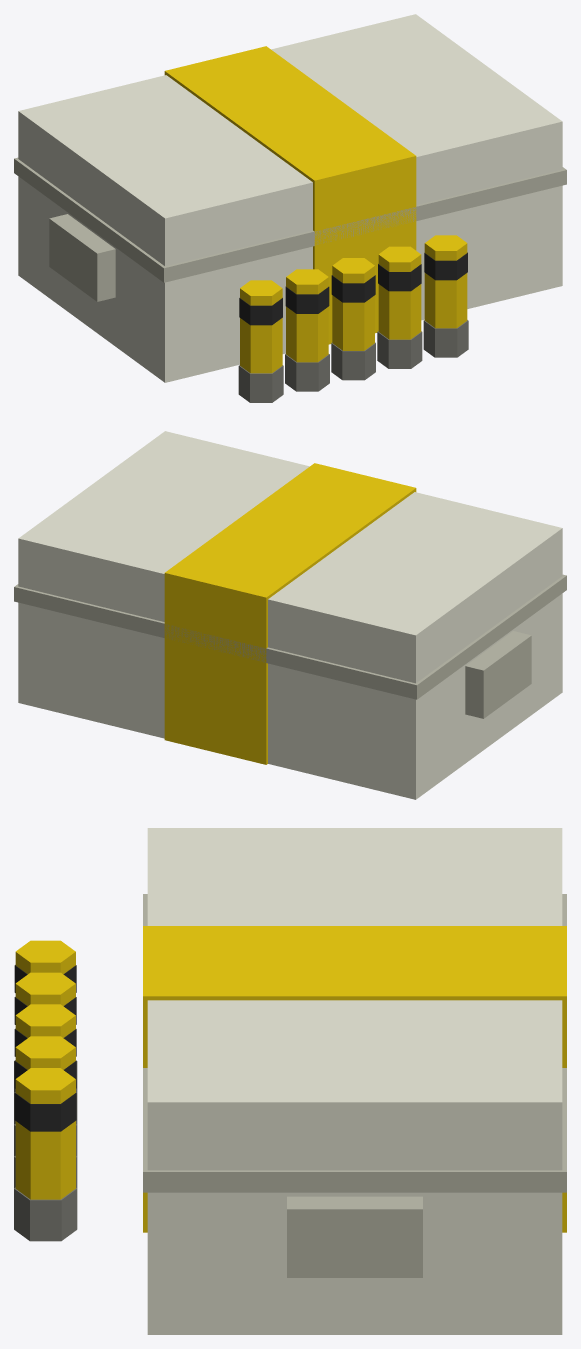
File: ce_ammo_chshotgun_reg_c.obj
3 views of the same model, one above another, from view 1: azimuth 30°, elevation 25°; view 2: azimuth 150°, elevation 25°; view 3: azimuth 270°, elevation 25° (orthographic). The views are drawn at different scales.
Visible parts, largest first — view 1: ce_ammo_chshotgun_reg_c_0, ce_ammo_chshotgun_reg_c_1, ce_ammo_chshotgun_reg_c_2, ce_ammo_chshotgun_reg_c_3, ce_ammo_chshotgun_reg_c_15, ce_ammo_chshotgun_reg_c_18, ce_ammo_chshotgun_reg_c_6, ce_ammo_chshotgun_reg_c_9, ce_ammo_chshotgun_reg_c_12, ce_ammo_chshotgun_reg_c_17, ce_ammo_chshotgun_reg_c_5, ce_ammo_chshotgun_reg_c_14 (+7 smaller); view 2: ce_ammo_chshotgun_reg_c_0, ce_ammo_chshotgun_reg_c_1, ce_ammo_chshotgun_reg_c_2, ce_ammo_chshotgun_reg_c_3; view 3: ce_ammo_chshotgun_reg_c_0, ce_ammo_chshotgun_reg_c_1, ce_ammo_chshotgun_reg_c_4, ce_ammo_chshotgun_reg_c_2, ce_ammo_chshotgun_reg_c_18, ce_ammo_chshotgun_reg_c_17, ce_ammo_chshotgun_reg_c_19, ce_ammo_chshotgun_reg_c_6, ce_ammo_chshotgun_reg_c_9, ce_ammo_chshotgun_reg_c_12, ce_ammo_chshotgun_reg_c_15.
Boxes of the visible parts, left/top/right/bottom form: ce_ammo_chshotgun_reg_c_0: left=18, top=14, right=562, bottom=382; ce_ammo_chshotgun_reg_c_1: left=164, top=46, right=416, bottom=344; ce_ammo_chshotgun_reg_c_2: left=14, top=157, right=566, bottom=282; ce_ammo_chshotgun_reg_c_3: left=49, top=214, right=115, bottom=301; ce_ammo_chshotgun_reg_c_15: left=378, top=246, right=421, bottom=339; ce_ammo_chshotgun_reg_c_18: left=424, top=235, right=467, bottom=328; ce_ammo_chshotgun_reg_c_6: left=240, top=280, right=282, bottom=373; ce_ammo_chshotgun_reg_c_9: left=286, top=269, right=328, bottom=362; ce_ammo_chshotgun_reg_c_12: left=332, top=258, right=374, bottom=350; ce_ammo_chshotgun_reg_c_17: left=423, top=320, right=468, bottom=357; ce_ammo_chshotgun_reg_c_5: left=238, top=365, right=283, bottom=402; ce_ammo_chshotgun_reg_c_14: left=377, top=331, right=422, bottom=368; ce_ammo_chshotgun_reg_c_0: left=18, top=431, right=562, bottom=799; ce_ammo_chshotgun_reg_c_1: left=164, top=463, right=416, bottom=764; ce_ammo_chshotgun_reg_c_2: left=14, top=574, right=566, bottom=699; ce_ammo_chshotgun_reg_c_3: left=465, top=631, right=531, bottom=718; ce_ammo_chshotgun_reg_c_0: left=147, top=828, right=562, bottom=1334; ce_ammo_chshotgun_reg_c_1: left=143, top=926, right=566, bottom=1232; ce_ammo_chshotgun_reg_c_4: left=287, top=1196, right=422, bottom=1277; ce_ammo_chshotgun_reg_c_2: left=143, top=894, right=566, bottom=1192; ce_ammo_chshotgun_reg_c_18: left=15, top=1068, right=75, bottom=1199; ce_ammo_chshotgun_reg_c_17: left=14, top=1187, right=77, bottom=1241; ce_ammo_chshotgun_reg_c_19: left=14, top=1092, right=76, bottom=1131; ce_ammo_chshotgun_reg_c_6: left=15, top=940, right=75, bottom=974; ce_ammo_chshotgun_reg_c_9: left=15, top=972, right=75, bottom=1005; ce_ammo_chshotgun_reg_c_12: left=15, top=1004, right=75, bottom=1037; ce_ammo_chshotgun_reg_c_15: left=15, top=1036, right=75, bottom=1069.
Bounding box in the file's own units: 0.94 × 0.346 × 0.733.
